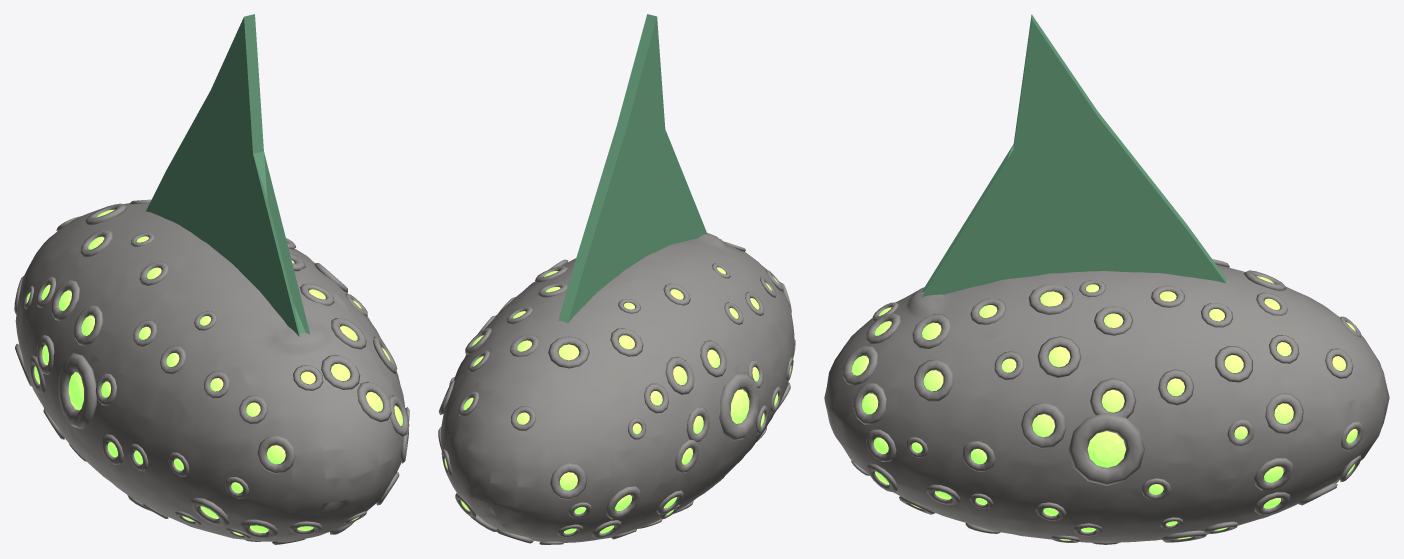
The model's file is segment_fin.glb.
3 views of the same model, side by side, from view 1: azimuth 30°, elevation 25°; view 2: azimuth 150°, elevation 25°; view 3: azimuth 270°, elevation 25° (orthographic). The views are drawn at different scales.
Parts seen in each view (by area): view 1: SegmentFin, FinDorsal, RimsS, PoresS, HoleL0; view 2: SegmentFin, FinDorsal, RimsS, PoresS, HoleL0; view 3: SegmentFin, FinDorsal, RimsS, PoresS, HoleR0.
Boxes of the visible parts, left/top/right/bottom form: SegmentFin: left=15, top=203, right=404, bottom=541; FinDorsal: left=146, top=14, right=310, bottom=336; RimsS: left=14, top=199, right=409, bottom=544; PoresS: left=27, top=209, right=402, bottom=535; HoleL0: left=68, top=372, right=83, bottom=410; SegmentFin: left=440, top=233, right=794, bottom=542; FinDorsal: left=558, top=14, right=706, bottom=323; RimsS: left=438, top=239, right=795, bottom=544; PoresS: left=444, top=267, right=791, bottom=533; HoleL0: left=730, top=389, right=749, bottom=423; SegmentFin: left=824, top=264, right=1389, bottom=542; FinDorsal: left=922, top=14, right=1226, bottom=296; RimsS: left=843, top=259, right=1363, bottom=544; PoresS: left=851, top=276, right=1357, bottom=540; HoleR0: left=1087, top=431, right=1125, bottom=467.
Size of the model in its own units: 0.9087 by 1.59 by 1.58.
